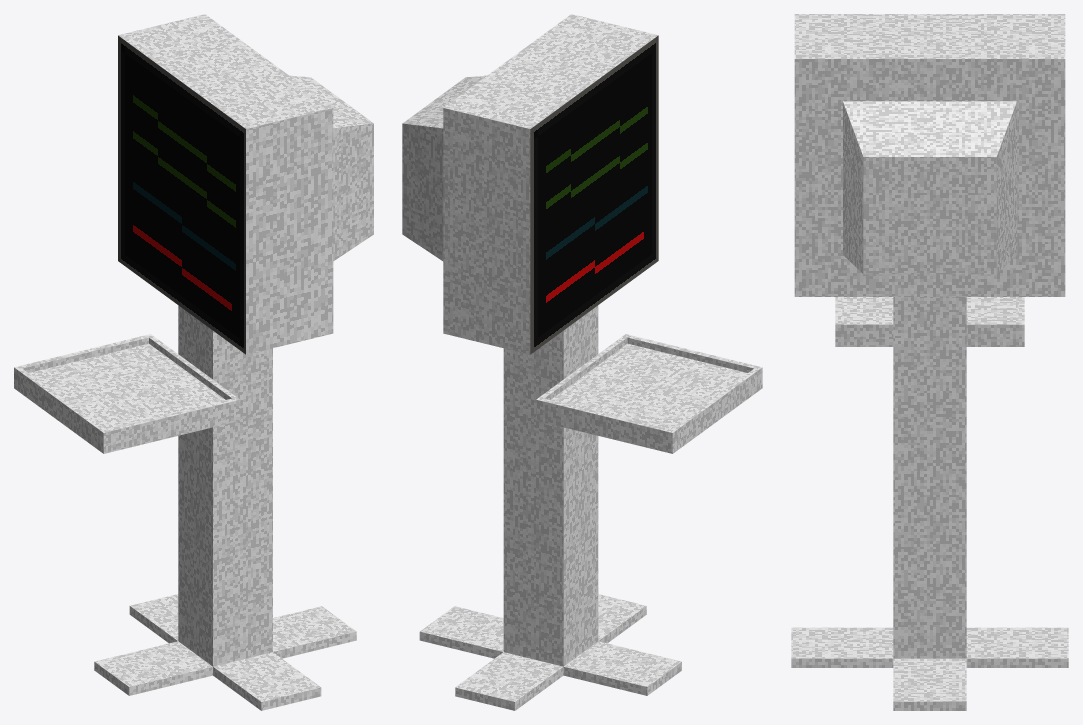
Rendered from BLOCKYGON_HEART MONITOR.fbx.
3 renders of one model, left to right at view 1: azimuth 30°, elevation 25°; view 2: azimuth 150°, elevation 25°; view 3: azimuth 270°, elevation 25°, orthographic. The views are drawn at different scales.
Visible parts, largest first — view 1: BLOCKYGON_HEART_MONITOR; view 2: BLOCKYGON_HEART_MONITOR; view 3: BLOCKYGON_HEART_MONITOR.
Boxes of the visible parts, left/top/right/bottom form: BLOCKYGON_HEART_MONITOR: left=14, top=14, right=373, bottom=710; BLOCKYGON_HEART_MONITOR: left=402, top=14, right=762, bottom=710; BLOCKYGON_HEART_MONITOR: left=791, top=14, right=1068, bottom=710.
Size of the model in its own units: 169 by 333 by 136.
Materials: 2 (2 with a texture image).
